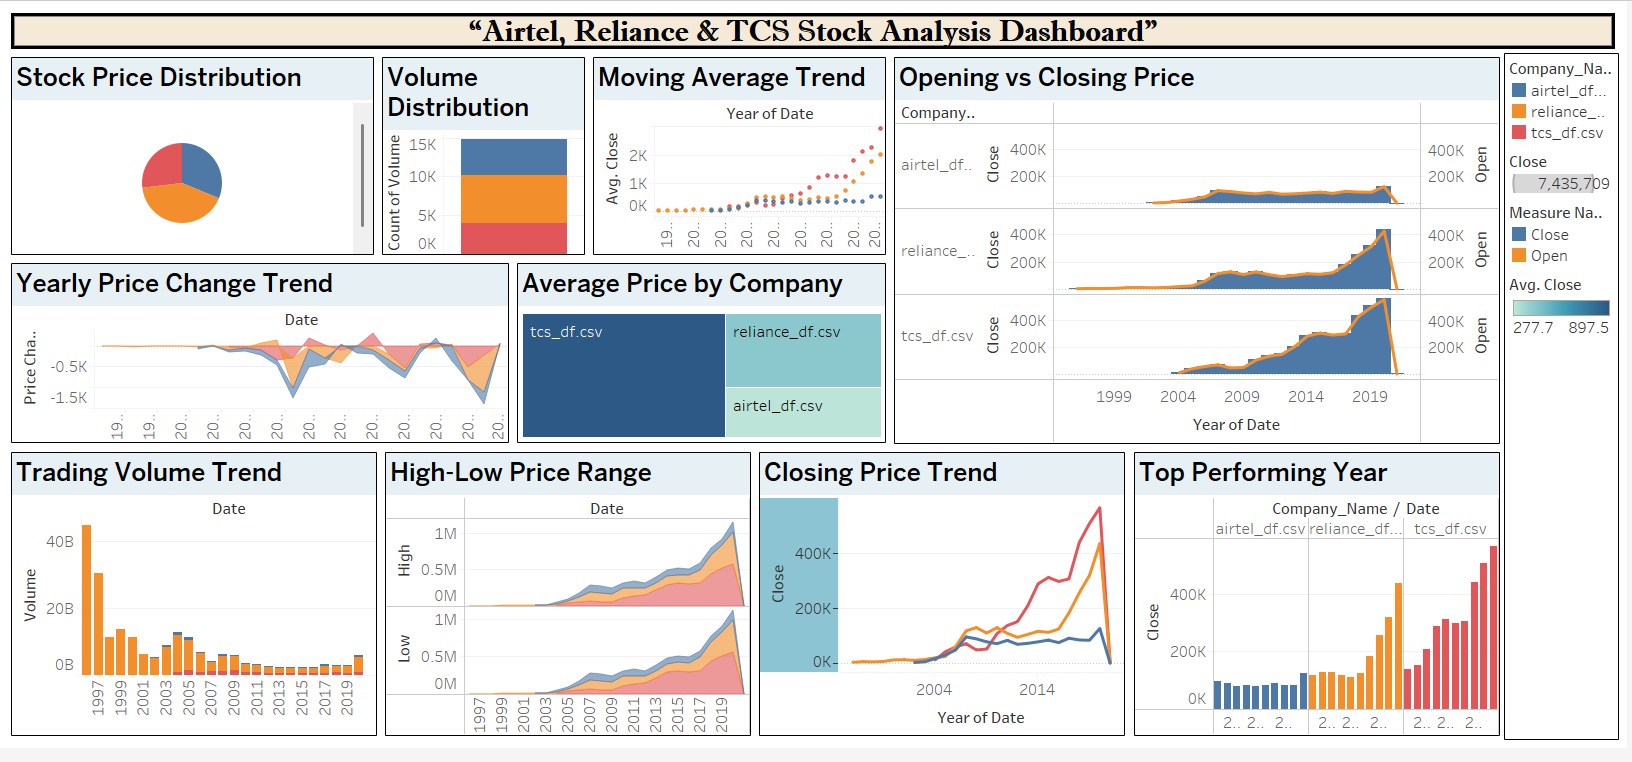

Layout of this report page (visuals, bound fields, positions):
{"tool":"tableau","page":{"name":"Dashboard 1","canvas":[1000,1000],"units":"permille","ordinal":0},"visuals":[{"type":"title","box":[4.9,10.7,990.2,58.9]},{"type":"worksheet","title":"Sheet 1","mark":"Pie","box":[4.9,69.6,228.1,276.3]},{"type":"worksheet","title":"Sheet 7","mark":"Automatic","rows":["Volume"],"box":[233,69.6,129.4,276.3]},{"type":"worksheet","title":"Sheet 9","mark":"Shape","rows":["Close"],"cols":["Date"],"box":[362.4,69.6,184.7,276.3]},{"type":"worksheet","title":"Sheet 3","mark":"Automatic","rows":["Table Name","Close","Open"],"cols":["Date"],"box":[547.1,69.6,377.4,528.5]},{"type":"legend","title":"Sheet 1","param":"[federated.06ejmow0799zsn1e15xff1fqn6b8].[none:Table Name:nk]","box":[925.1,71,69.4,124.5]},{"type":"legend","title":"Sheet 1","param":"[federated.06ejmow0799zsn1e15xff1fqn6b8].[sum:Close:qk]","box":[925.1,195.5,69.4,68.3]},{"type":"legend","title":"Sheet 3","param":"[federated.06ejmow0799zsn1e15xff1fqn6b8].[:Measure Names]","box":[925.1,263.7,69.4,96.4]},{"type":"worksheet","title":"Sheet 8","mark":"Area","rows":["Calculation_372391446786043905"],"cols":["Date"],"box":[4.9,345.9,310.8,252.2]},{"type":"worksheet","title":"Sheet 6","mark":"Automatic","box":[315.7,345.9,231.3,252.2]},{"type":"legend","title":"Sheet 6","param":"[federated.06ejmow0799zsn1e15xff1fqn6b8].[avg:Close:qk]","box":[925.1,360.1,69.4,97.7]},{"type":"worksheet","title":"Sheet 5","mark":"Bar","rows":["Volume"],"cols":["Date"],"box":[4.9,598.1,229.8,391.2]},{"type":"worksheet","title":"Sheet 4","mark":"Area","rows":["High","Low"],"cols":["Date"],"box":[234.7,598.1,229.9,391.2]},{"type":"worksheet","title":"Sheet 2","mark":"Automatic","rows":["Close"],"cols":["Date"],"box":[464.6,598.1,229.9,391.2]},{"type":"worksheet","title":"Sheet 10","mark":"Bar","rows":["Close"],"cols":["Table Name","Date"],"box":[694.5,598.1,230,391.2]}]}

Visuals, with their boxes on the dashboard's canvas, which has no fixed pixel size, in thousandths of its width and height (x1, y1, x2, y2). These are canvas units, not pixel positions in the 1632x762 screenshot, which may show the page scaled, cropped or inside an application window:
title: 5, 11, 995, 70
"Sheet 1" worksheet (Pie marks): 5, 70, 233, 346
"Sheet 7" worksheet: 233, 70, 362, 346
"Sheet 9" worksheet (Shape marks): 362, 70, 547, 346
"Sheet 3" worksheet: 547, 70, 924, 598
"Sheet 1" legend: 925, 71, 994, 196
"Sheet 1" legend: 925, 196, 994, 264
"Sheet 3" legend: 925, 264, 994, 360
"Sheet 8" worksheet (Area marks): 5, 346, 316, 598
"Sheet 6" worksheet: 316, 346, 547, 598
"Sheet 6" legend: 925, 360, 994, 458
"Sheet 5" worksheet (Bar marks): 5, 598, 235, 989
"Sheet 4" worksheet (Area marks): 235, 598, 465, 989
"Sheet 2" worksheet: 465, 598, 694, 989
"Sheet 10" worksheet (Bar marks): 694, 598, 924, 989
